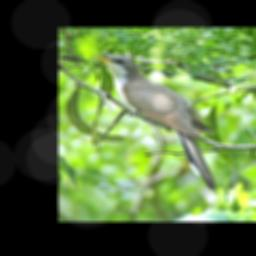Cuckoo: (92, 54, 217, 189)
